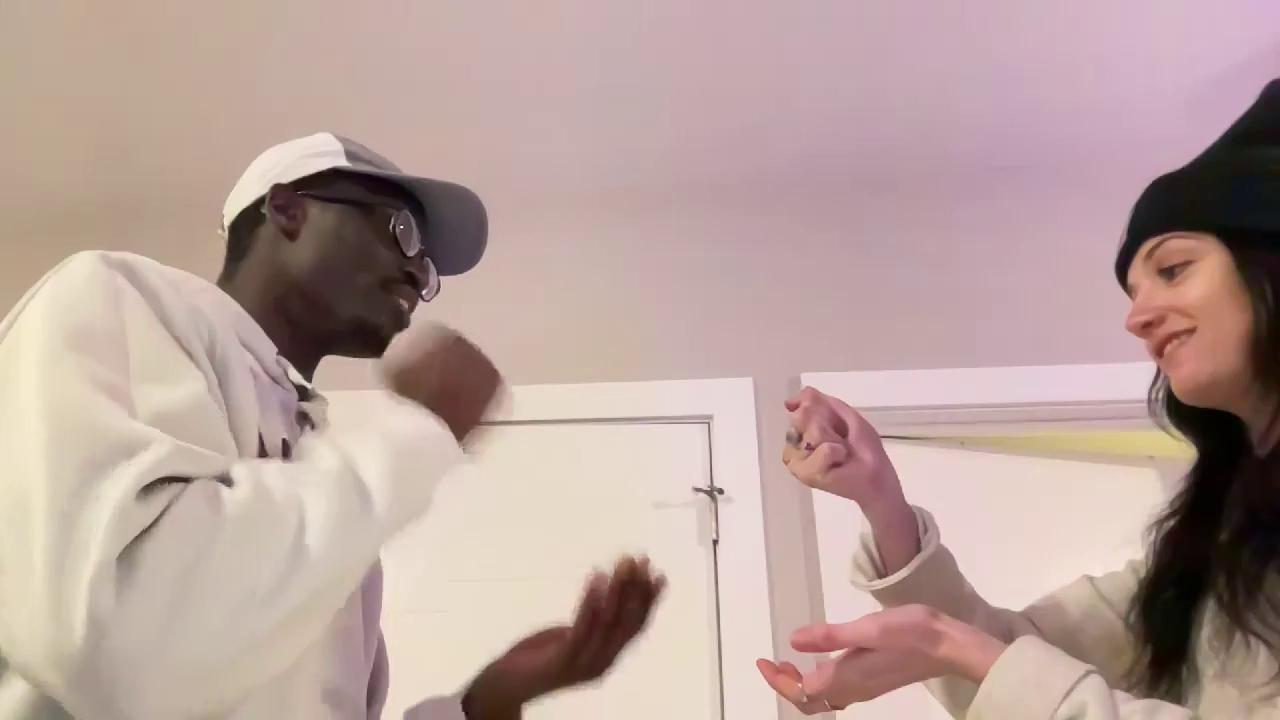Rock: (782, 383, 882, 507), (398, 330, 505, 433)
